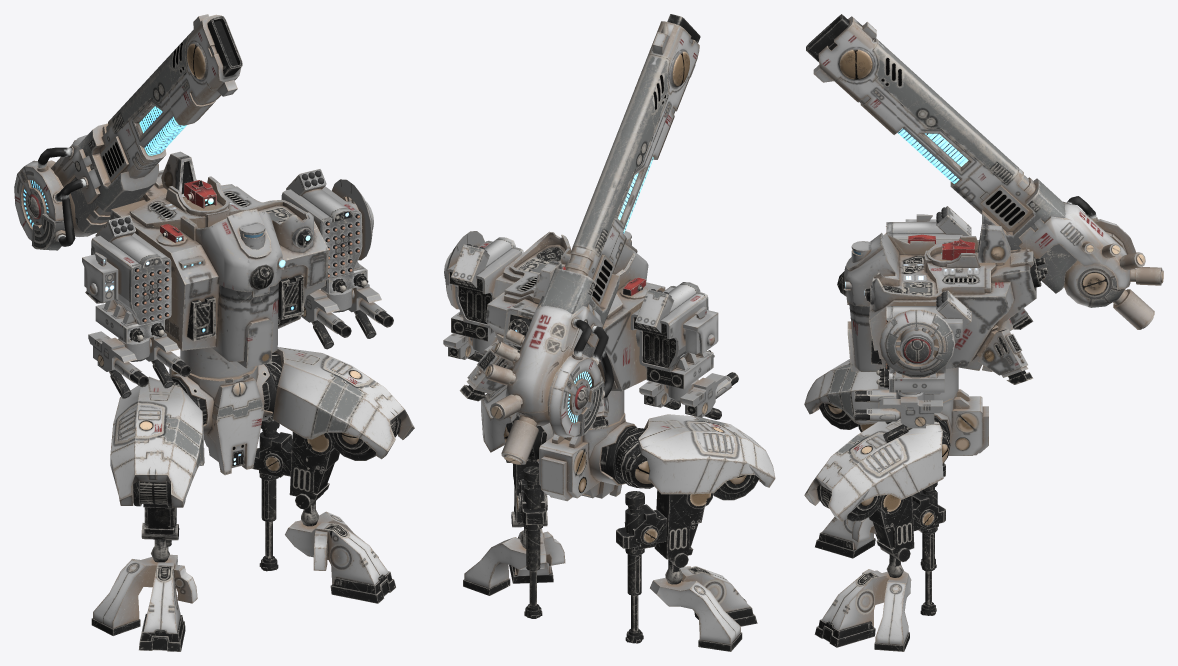
File: stormsurge.gltf
3 renders of one model, left to right at view 1: azimuth 30°, elevation 25°; view 2: azimuth 150°, elevation 25°; view 3: azimuth 270°, elevation 25°, orthographic. The views are drawn at different scales.
Parts seen in each view (by area): view 1: torso004, railgun_new, Line005, Line012, hip, Box002, right_rocket_battery, left_rocket_battery001, Box001, Line004, nade_launcher_right_02, Line010 (+9 smaller); view 2: railgun_new, torso004, Line012, right_rocket_battery, hip, left_rocket_battery001, Box002, Box001, Line011, Line013, nade_launcher_right_02, Line010 (+8 smaller); view 3: railgun_new, torso004, Line005, left_rocket_battery001, Box001, Line012, hip, Line004, nade_launcher_left_02, Box002, right_rocket_battery, Line010 (+2 smaller).
Part boxes in pixels (<box>): torso004: <box>85,151,328,378</box>; railgun_new: <box>14,14,242,250</box>; Line005: <box>266,347,414,460</box>; Line012: <box>110,376,204,507</box>; hip: <box>169,356,276,475</box>; Box002: <box>91,554,197,651</box>; right_rocket_battery: <box>91,215,171,343</box>; left_rocket_battery001: <box>281,169,373,293</box>; Box001: <box>285,511,395,603</box>; Line004: <box>289,432,339,526</box>; nade_launcher_right_02: <box>88,331,148,398</box>; Line010: <box>252,415,292,480</box>; railgun_new: <box>485,14,700,464</box>; torso004: <box>459,231,665,429</box>; Line012: <box>615,414,775,500</box>; right_rocket_battery: <box>630,282,713,389</box>; hip: <box>533,413,636,501</box>; left_rocket_battery001: <box>444,231,523,341</box>; Box002: <box>650,566,757,651</box>; Box001: <box>463,528,565,595</box>; Line011: <box>654,490,713,584</box>; Line013: <box>616,491,666,555</box>; nade_launcher_right_02: <box>680,372,738,419</box>; Line010: <box>517,466,547,530</box>; railgun_new: <box>806,14,1163,329</box>; torso004: <box>837,224,1048,402</box>; Line005: <box>804,418,950,521</box>; left_rocket_battery001: <box>879,290,971,394</box>; Box001: <box>814,569,911,651</box>; Line012: <box>804,359,886,429</box>; hip: <box>885,389,988,455</box>; Line004: <box>869,494,914,577</box>; nade_launcher_left_02: <box>854,397,942,442</box>; Box002: <box>815,517,878,558</box>; right_rocket_battery: <box>886,206,971,239</box>; Line010: <box>912,482,945,533</box>.
Bounding box in the file's own units: 20.09 × 39.76 × 23.39.
5 materials, 5 textured.
